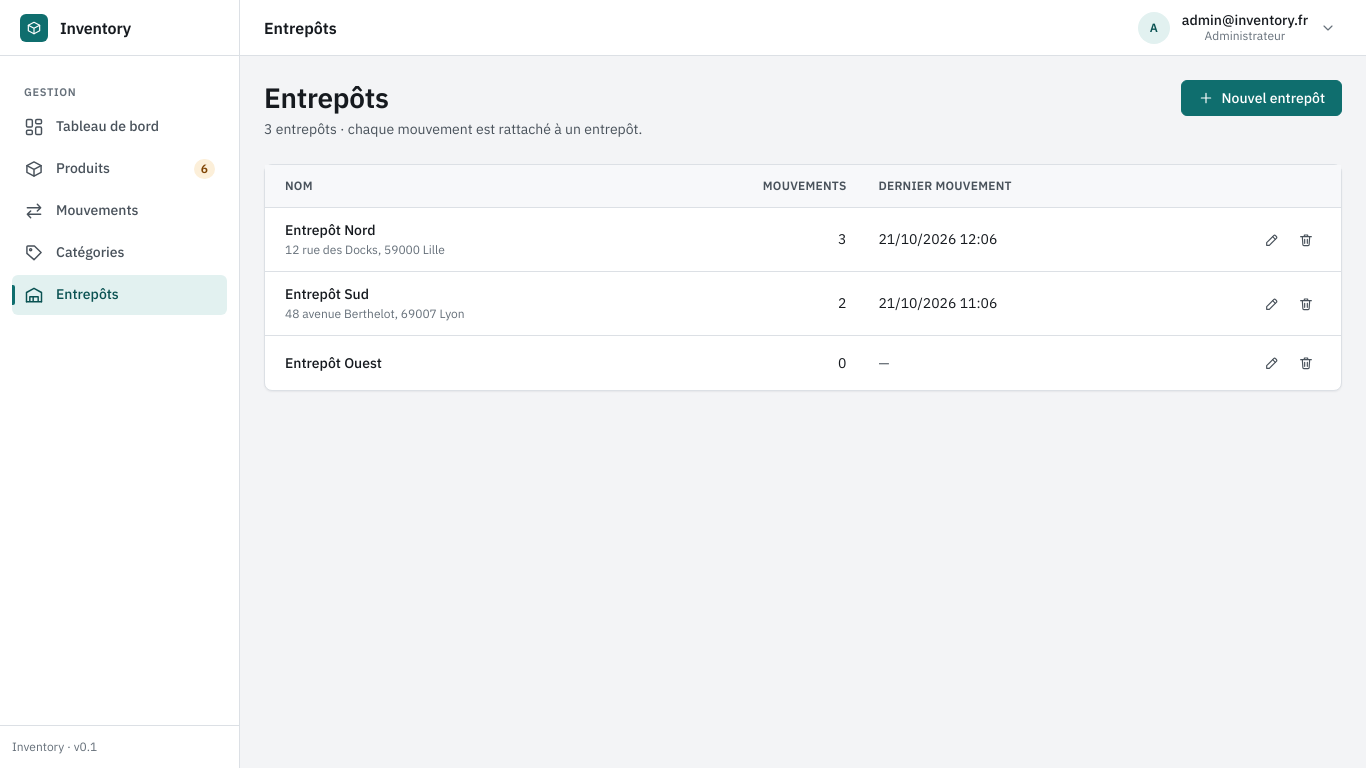
Test: WarehousesPage › create and edit › creates a warehouse with a trimmed name and address
The image size is (1366, 768).
Expected: the heading "Entrepôts" is shown, x1=264 y1=79 x2=389 y2=116
Click the button "Nouvel entrepôt" at coordinates (1261, 98), box x1=1181 y1=80 x2=1342 y2=116
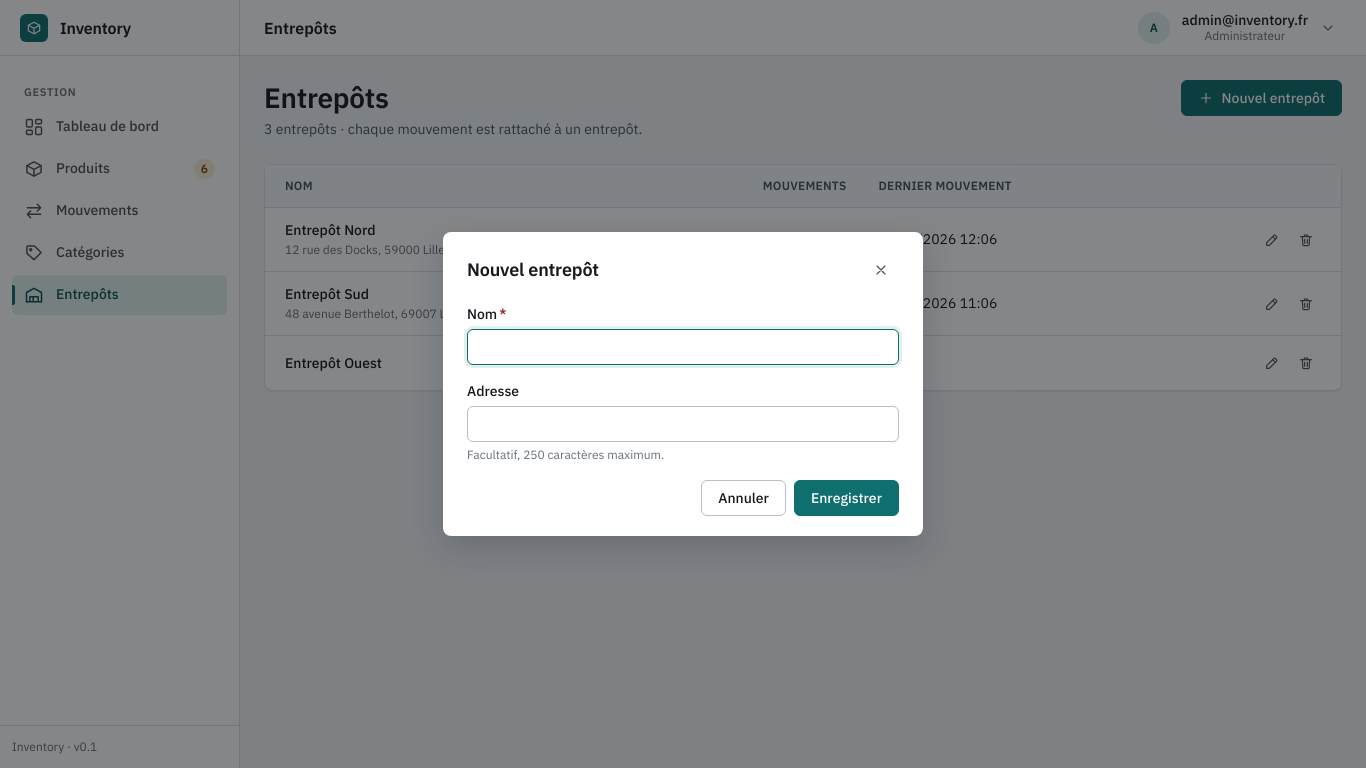
Type " Entrepôt Est " into the field labelled "Nom*" at coordinates (683, 347), box x1=467 y1=329 x2=899 y2=365
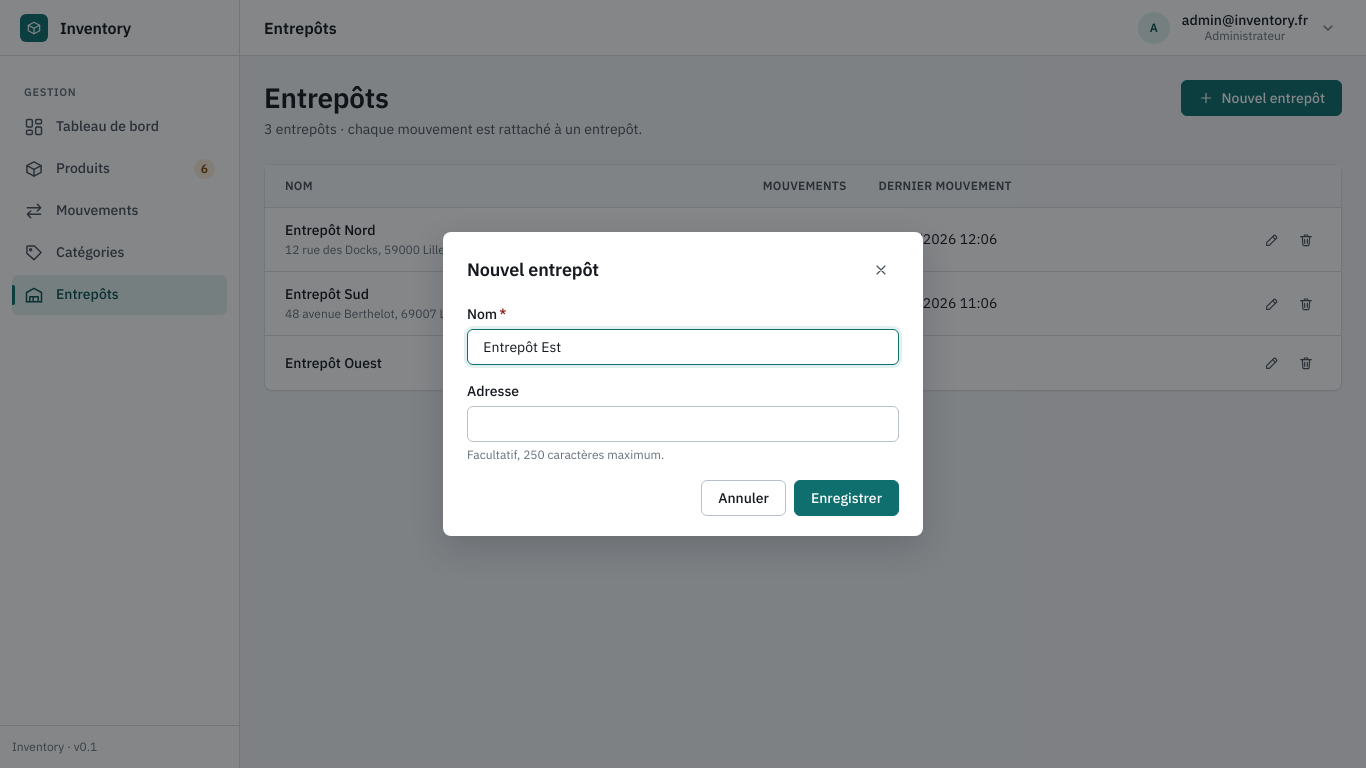
Type " 3 quai Kléber, 67000 Strasbourg " into the field labelled "Adresse" at coordinates (683, 424), box x1=467 y1=406 x2=899 y2=442
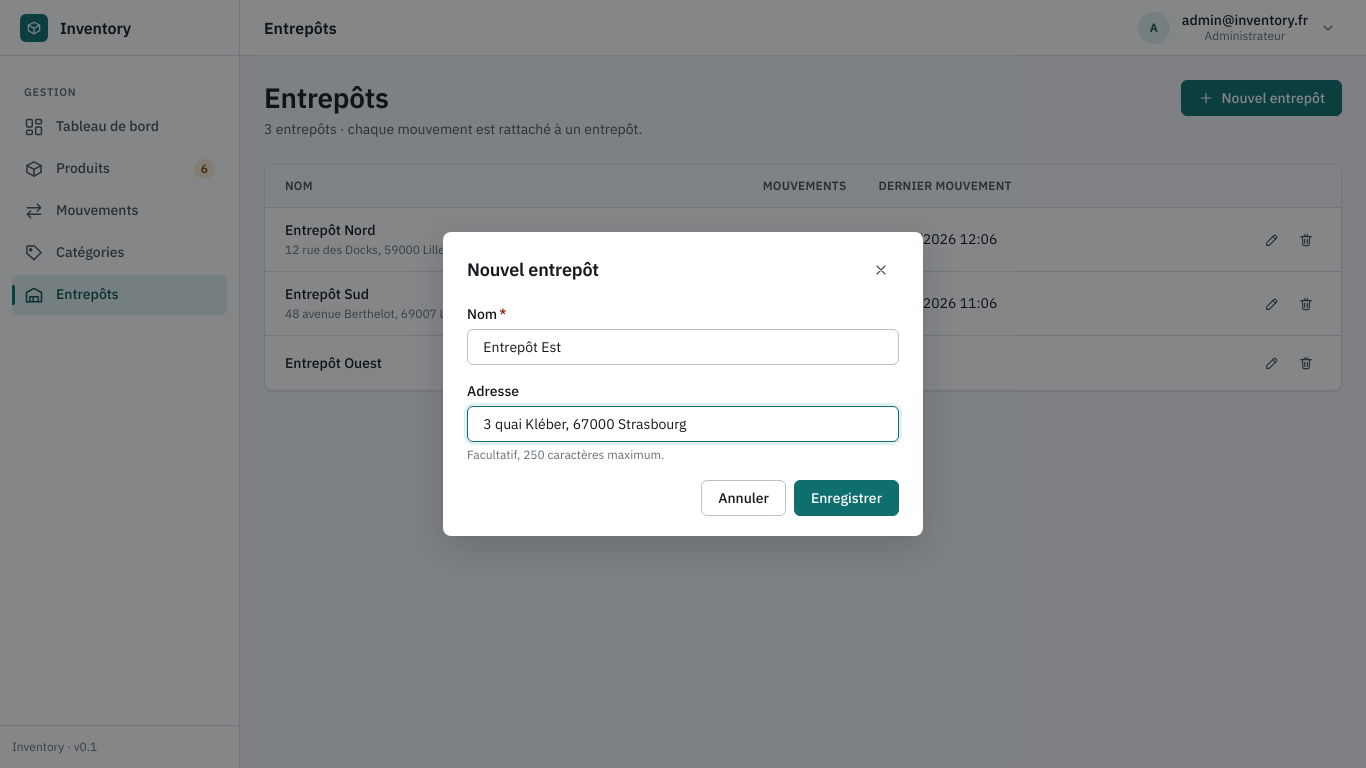
Click the button "Enregistrer" at coordinates (846, 498), box x1=794 y1=480 x2=899 y2=516
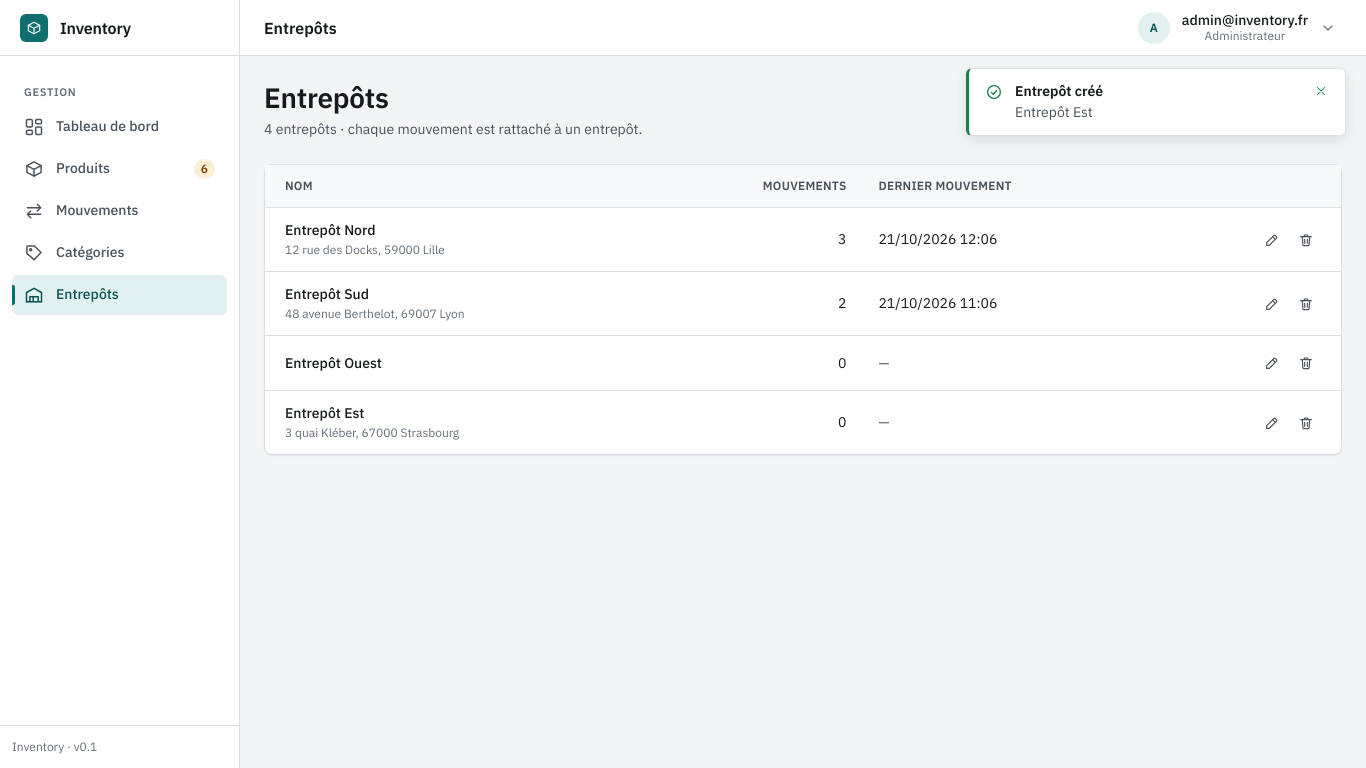
Expected: the text "3 quai Kléber, 67000 Strasbourg" is shown, x1=285 y1=425 x2=459 y2=440
